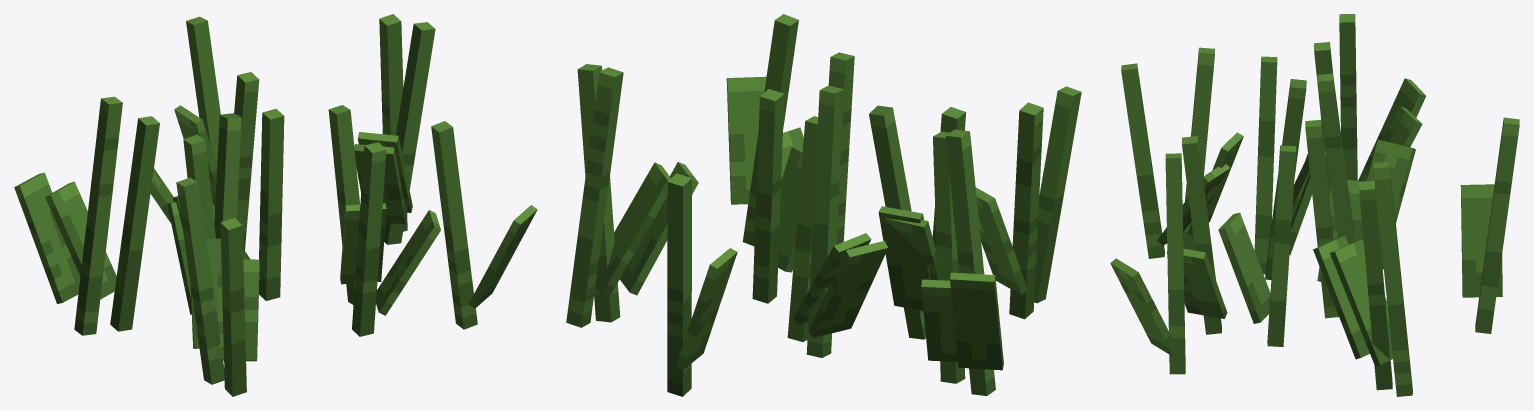
File: wheat_1.glb
The picture shows the model from 3 angles, left to right: view 1: azimuth 30°, elevation 25°; view 2: azimuth 150°, elevation 25°; view 3: azimuth 270°, elevation 25°; orthographic projection. The views are drawn at different scales.
Visible parts, largest first — view 1: wheat_1; view 2: wheat_1; view 3: wheat_1.
Part boxes in pixels (x1,y1,x2,y2): wheat_1: (14, 14, 537, 396); wheat_1: (566, 14, 1081, 396); wheat_1: (1110, 14, 1519, 396).
Bounding box in the file's own units: 0.5639 × 0.3138 × 0.5122.
Materials: 1 (1 with a texture image).
